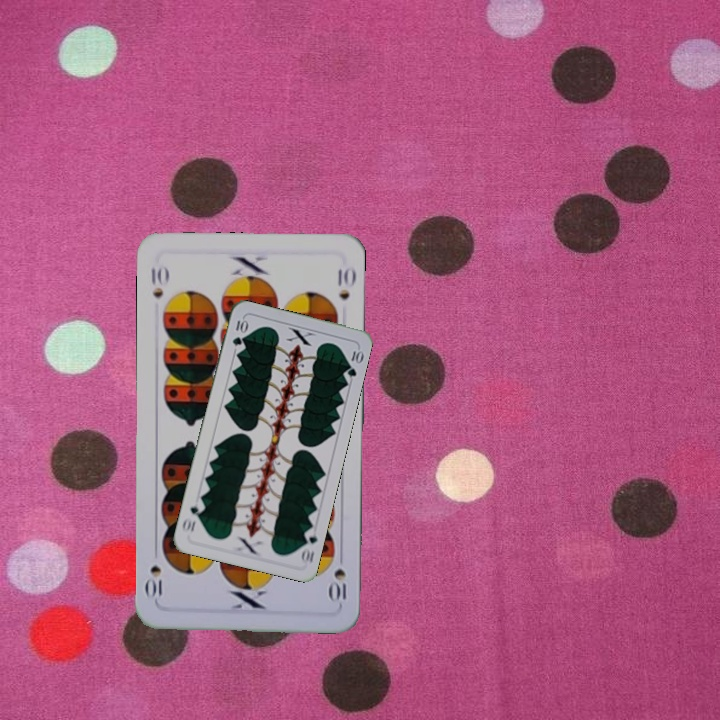G10: (297, 525, 320, 566), (228, 315, 249, 348)
S10: (147, 259, 171, 301), (327, 564, 349, 604)
